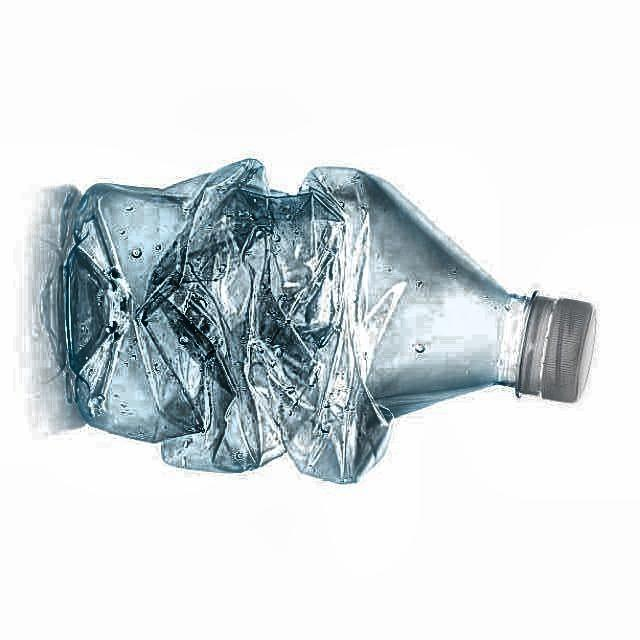plastic: (52, 160, 594, 482)
